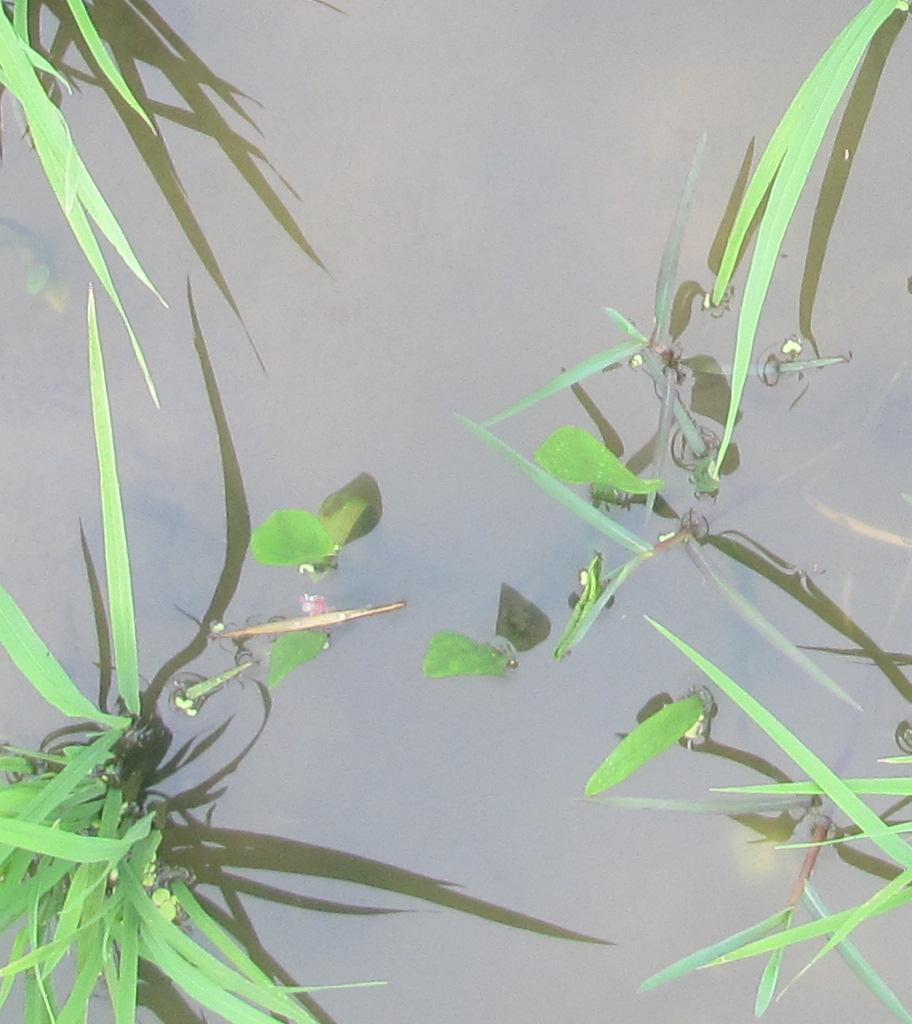Weed: (532, 417, 666, 502), (247, 492, 346, 569)
